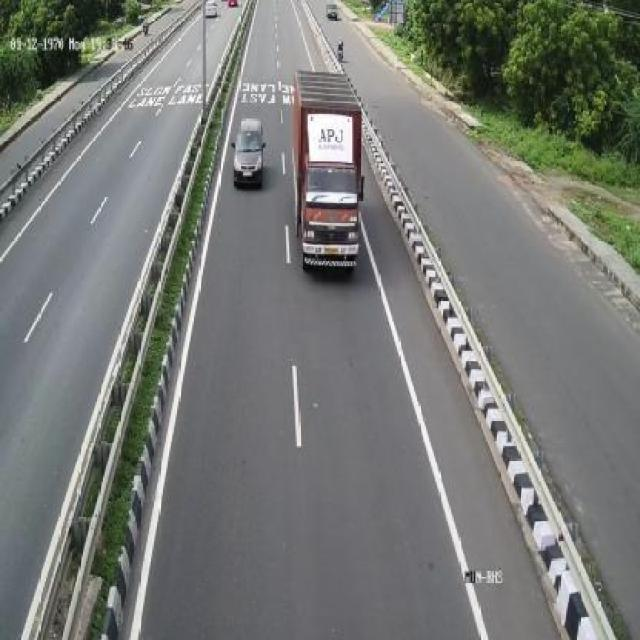car: (234, 112, 269, 191)
